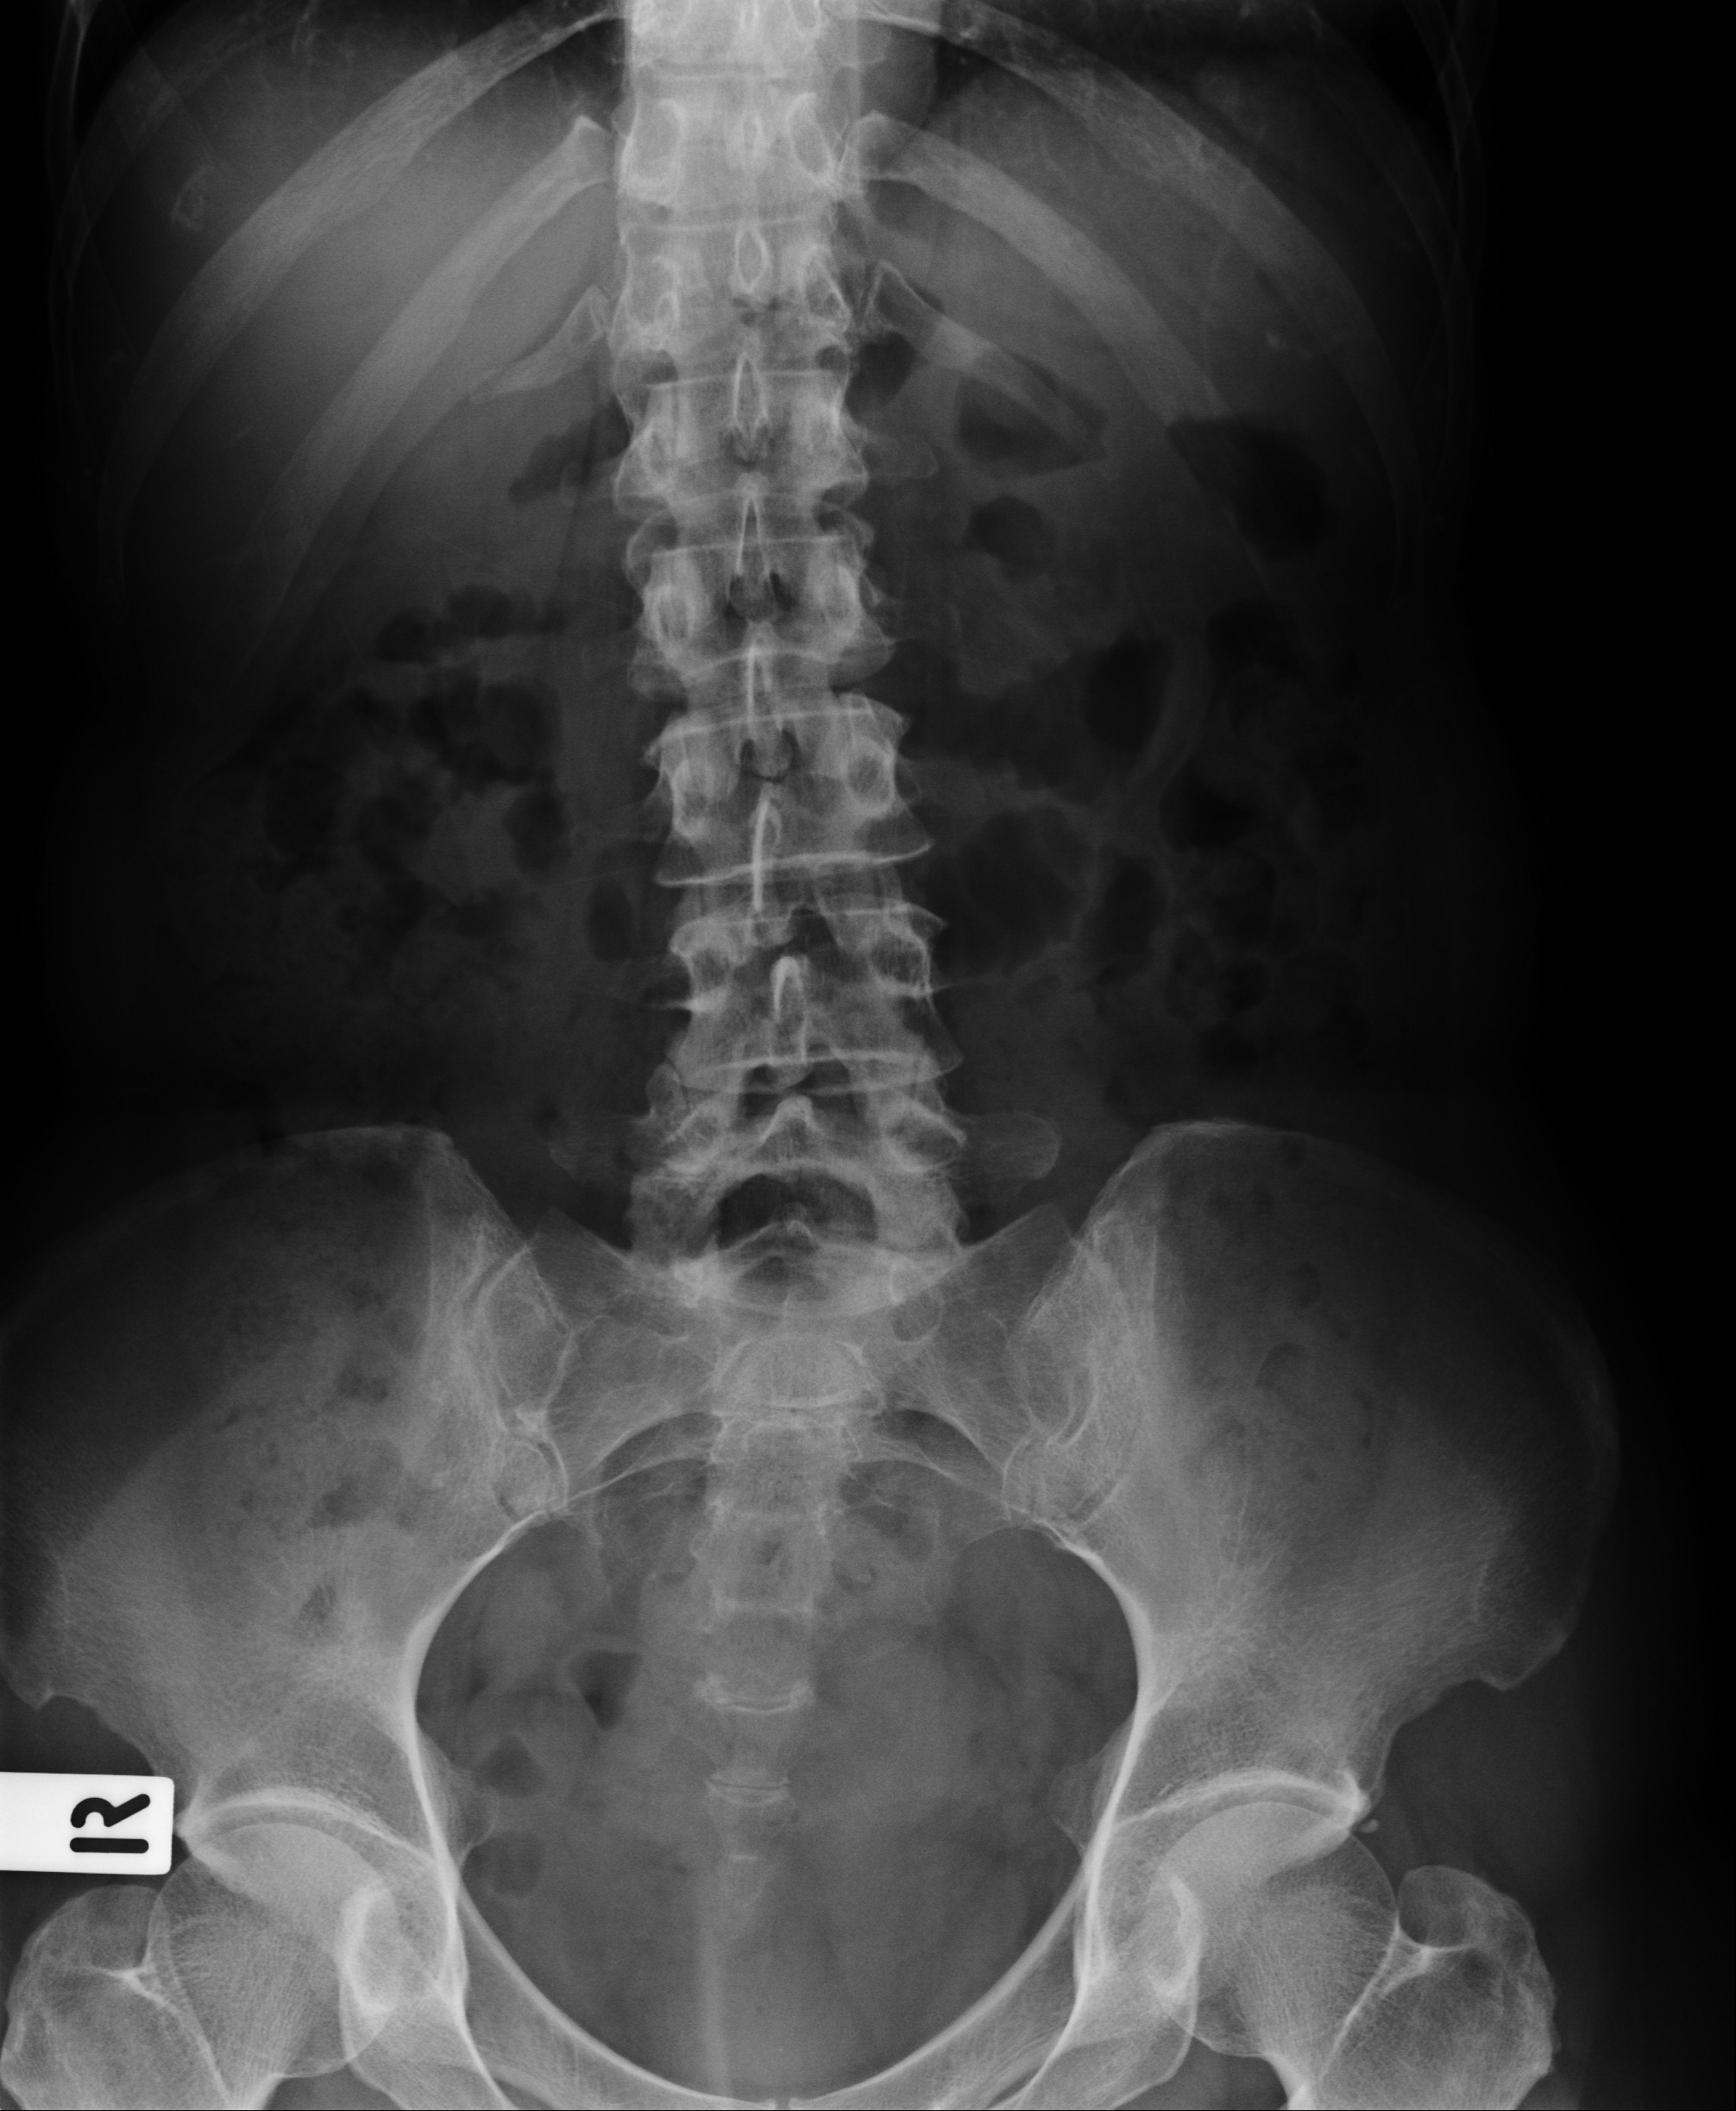lumbar scoliosis: (589, 14, 963, 1418)
